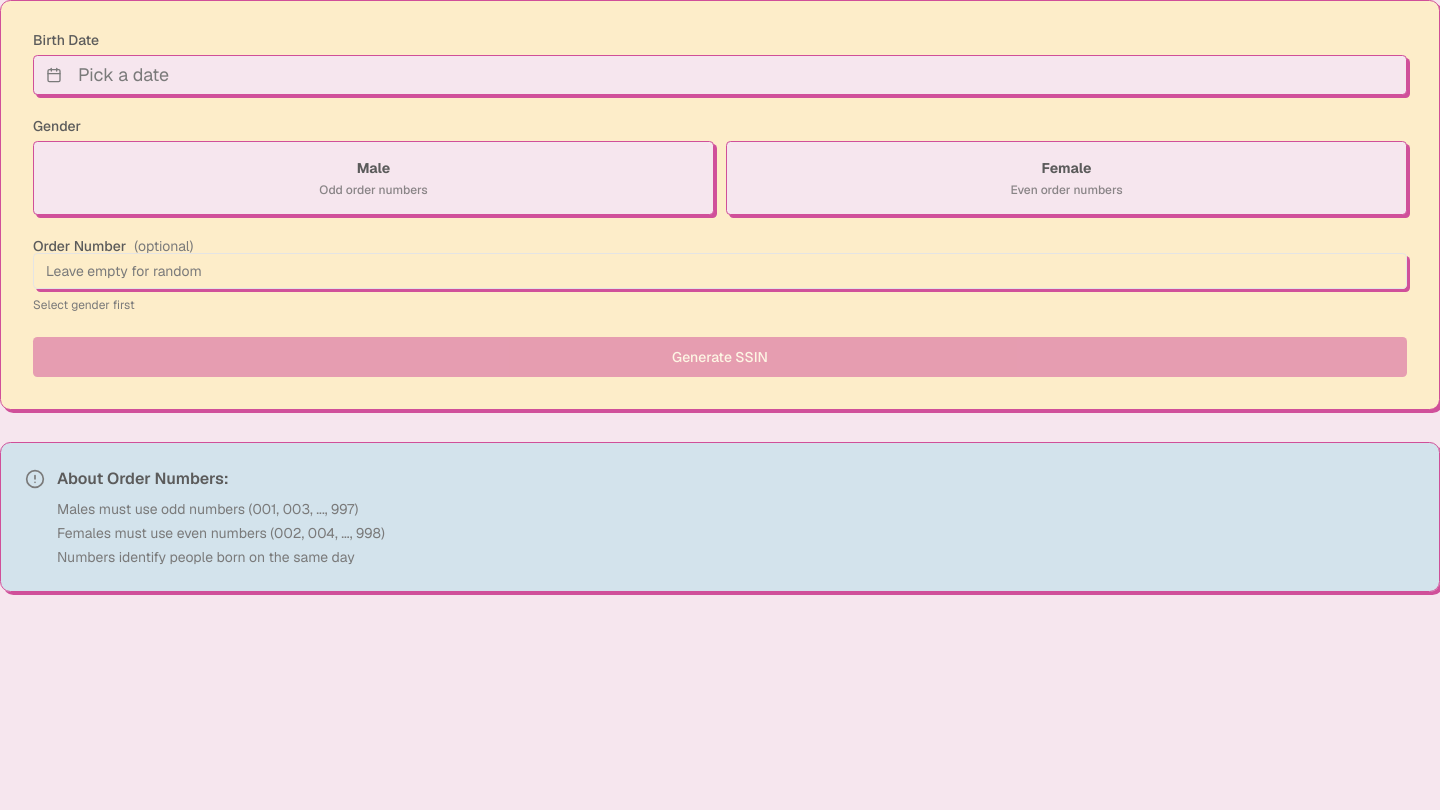
Test: SSINGeneratorForm › Gender Selection › should display gender-specific order number guidance for females
The width and height of the screenshot is (1440, 810).
Click the button "Female Even order numbers".
click(1066, 178)  # box [726, 141, 1407, 215]
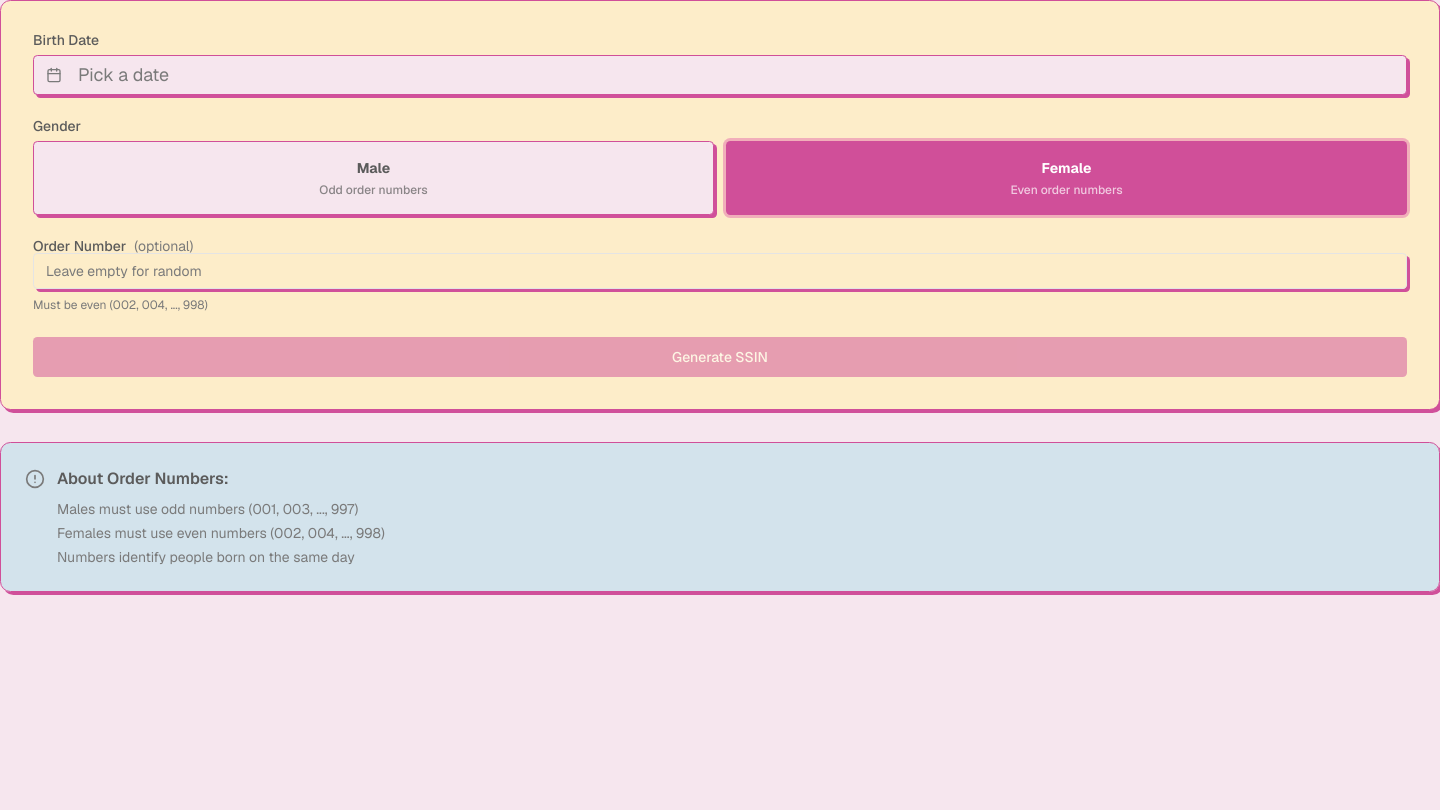
Expected: the text "Must be even (002, 004, ..., 998)" is shown, [33, 297, 208, 313]
